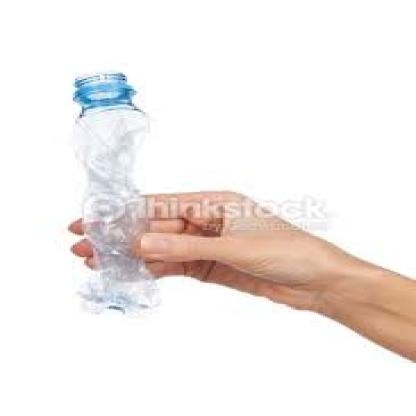trash: (69, 73, 157, 312)
